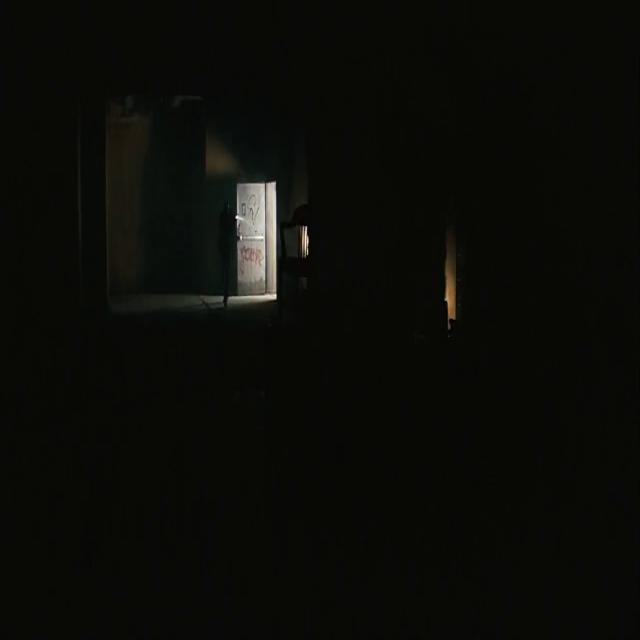People: (209, 181, 244, 330)
chair: (276, 177, 329, 321)
